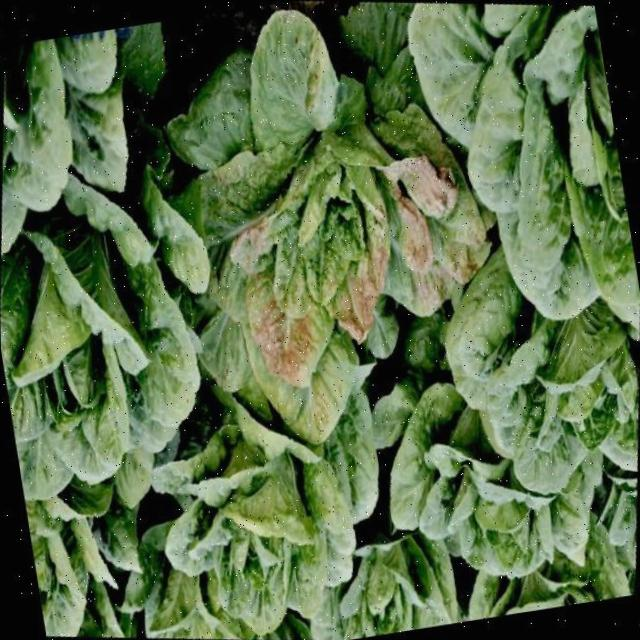Lettuce Mosaic Virus: (107, 0, 554, 495)
